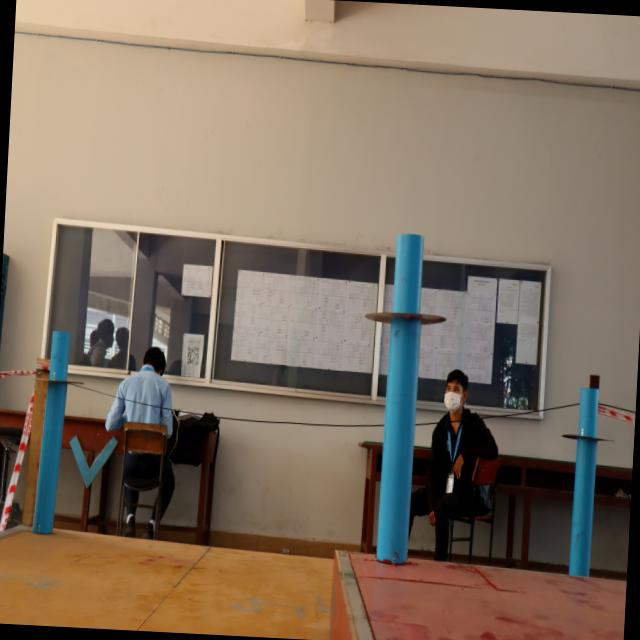pole: (358, 229, 455, 387), (558, 385, 617, 489), (34, 328, 88, 419)
